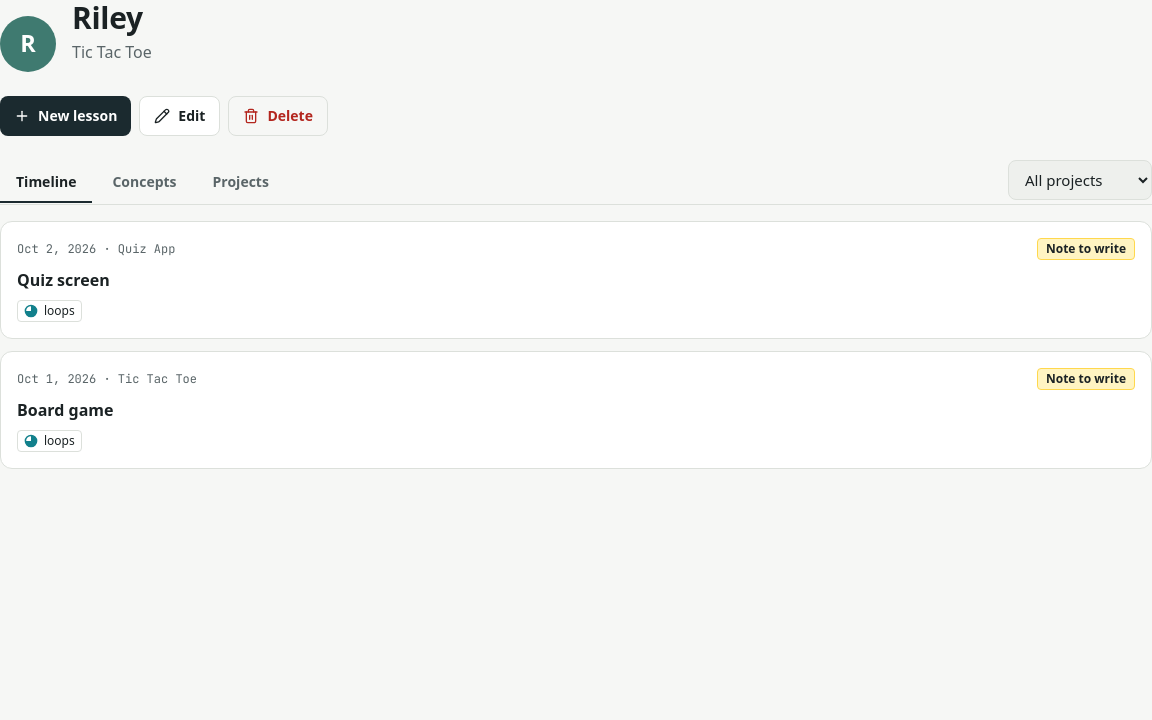
StudentPage › asks before deleting a project, and keeps its lessons
Click the button "projects" at (241, 182), box [197, 162, 285, 202]
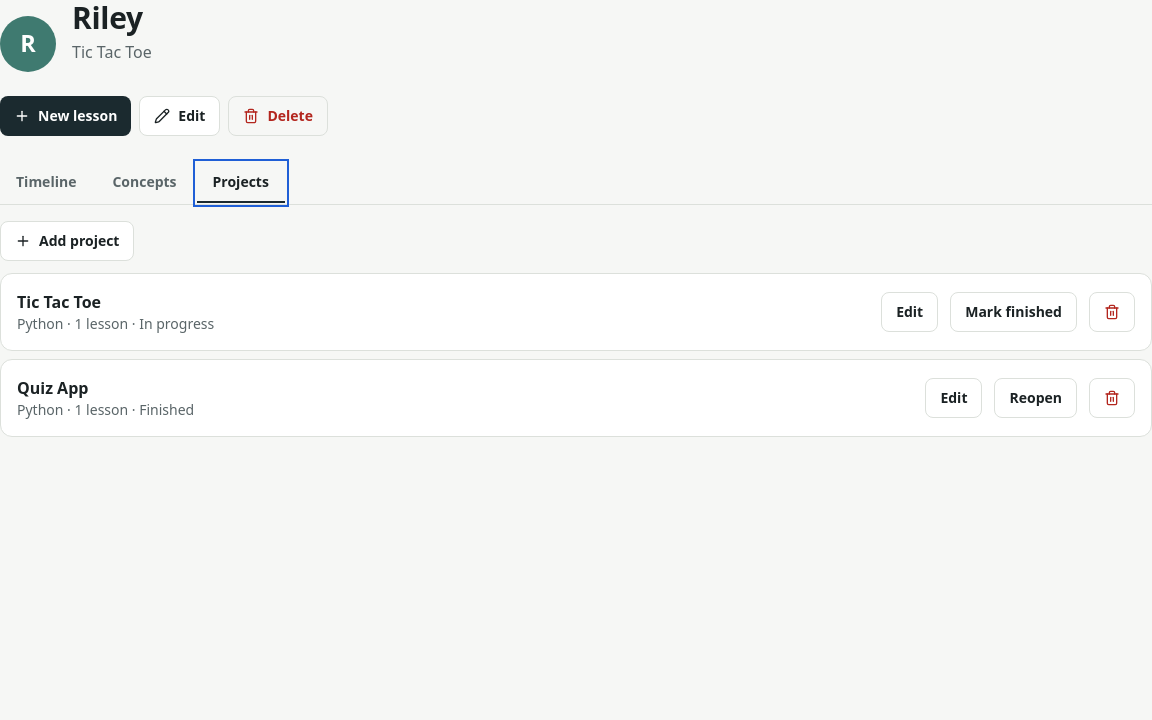
Click the button named "Delete Quiz App" at (1112, 398), box [1089, 378, 1135, 418]
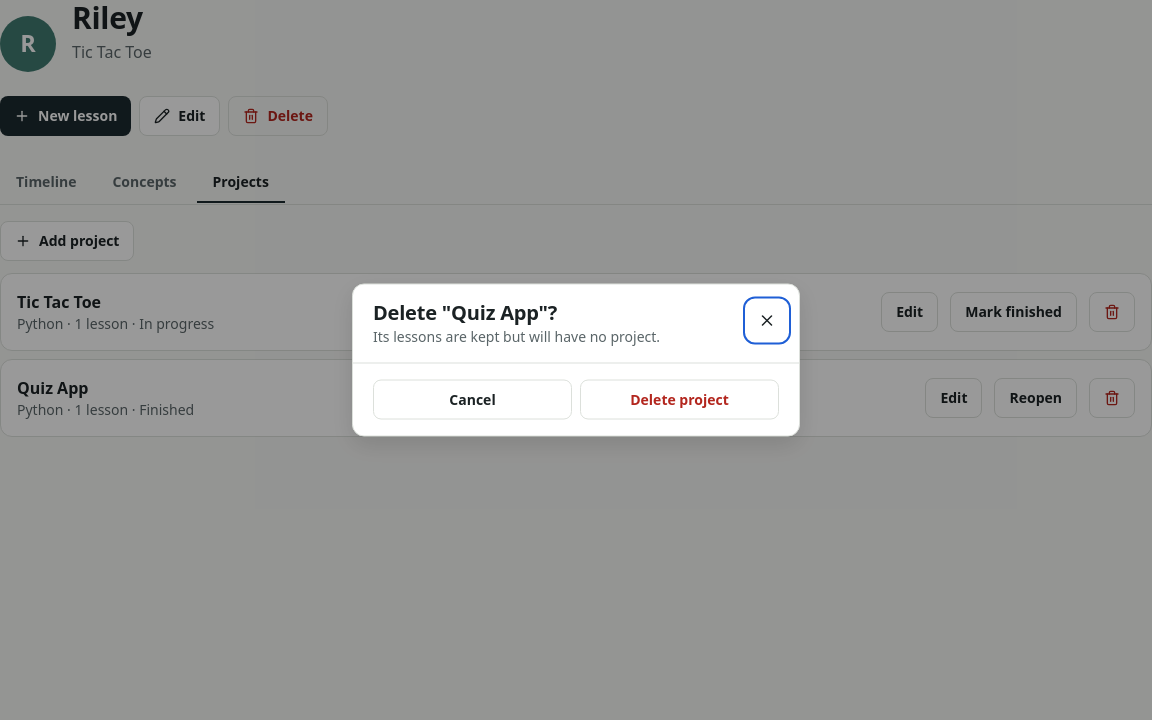
Expected: the dialog shows "Its lessons are kept", [373, 326, 660, 346]
Click the button "Delete project" at (680, 400), box [580, 380, 779, 420]
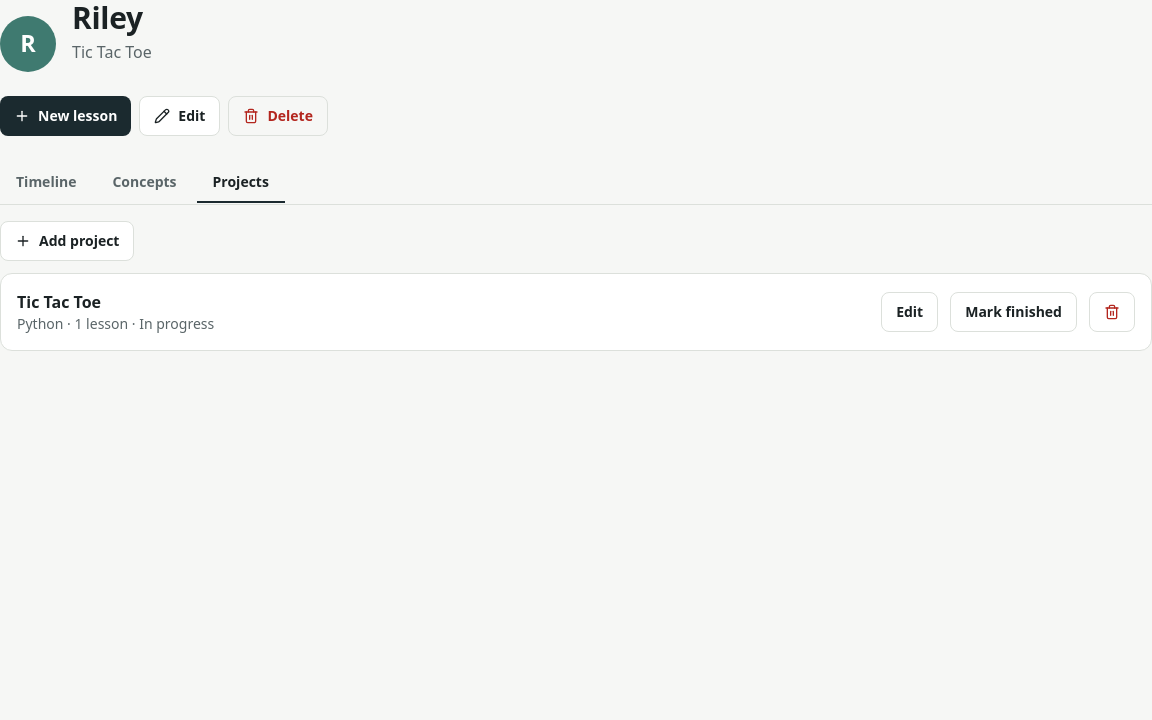
Expected: the text "Quiz App" is gone
Click the button "timeline" at (46, 182), box [0, 162, 92, 202]
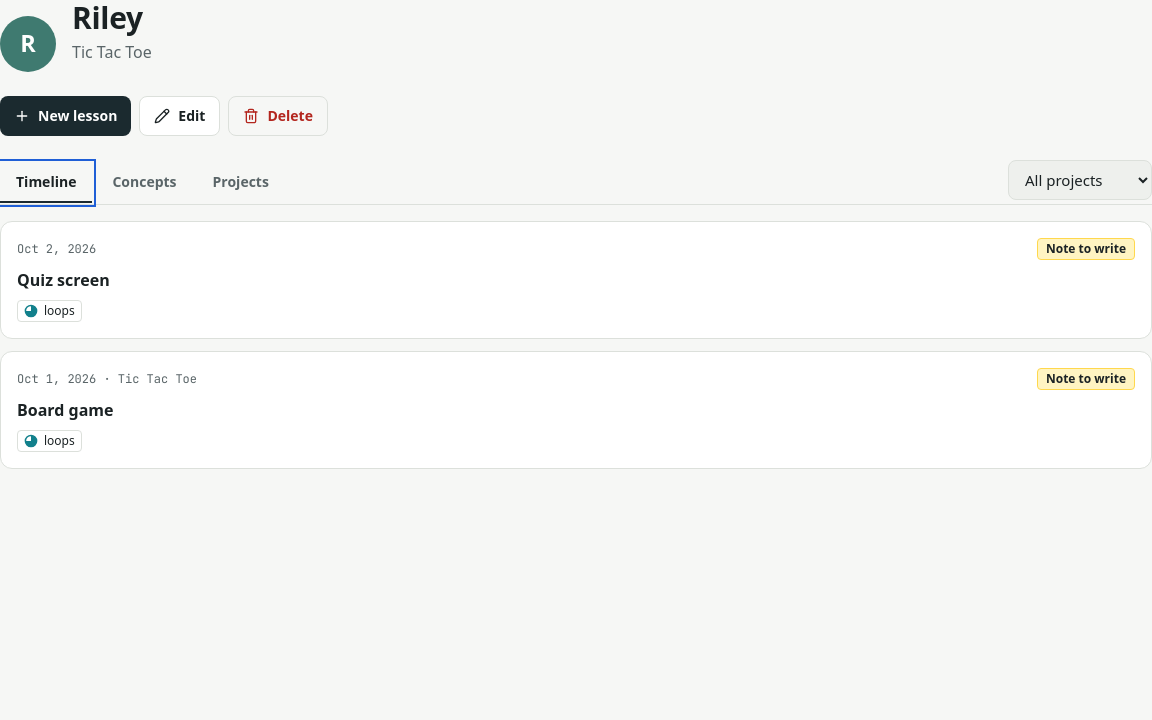
Expected: the text "Quiz screen" is shown, [17, 269, 110, 291]
